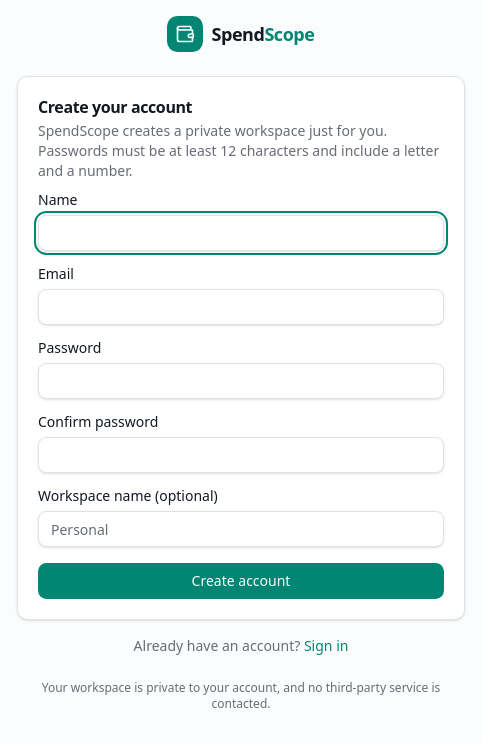
Scenario: SignUpPage › shows field-level validation errors and does not submit
This screenshot has width=483, height=744.
In the field labelled "Name": x=241, y=233 [38, 215, 444, 251], type "New User"
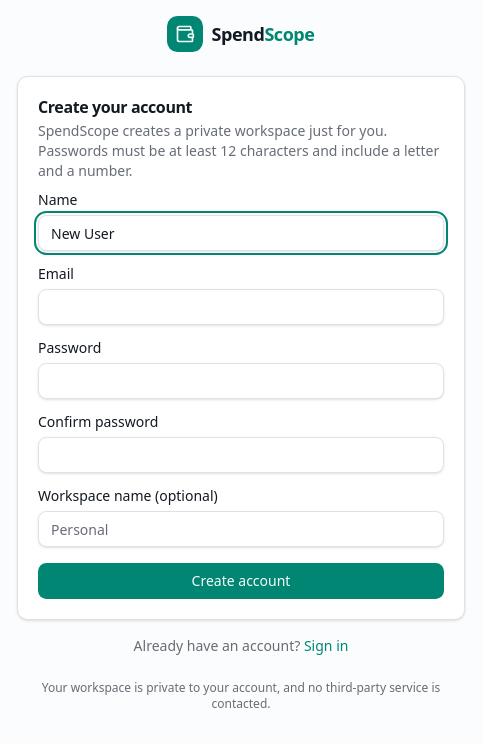
In the field labelled "Email": x=241, y=307 [38, 289, 444, 325], type "new@example.test"
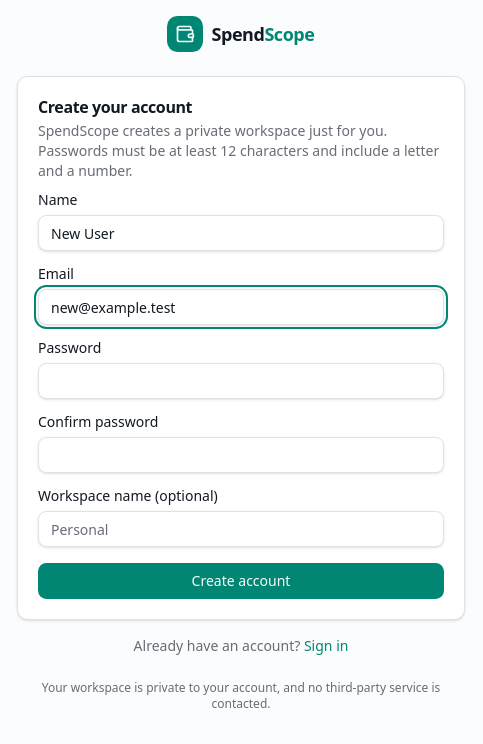
In the password field labelled "Password": x=241, y=381 [38, 363, 444, 399], type "short"
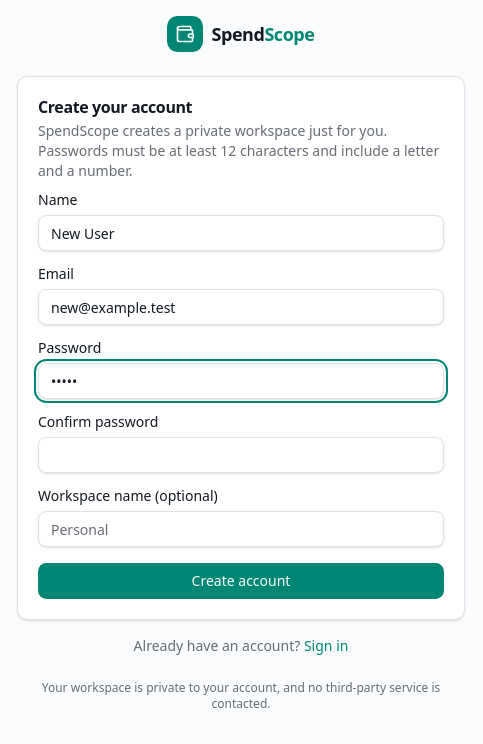
In the password field labelled "Confirm password": x=241, y=455 [38, 437, 444, 473], type "short"
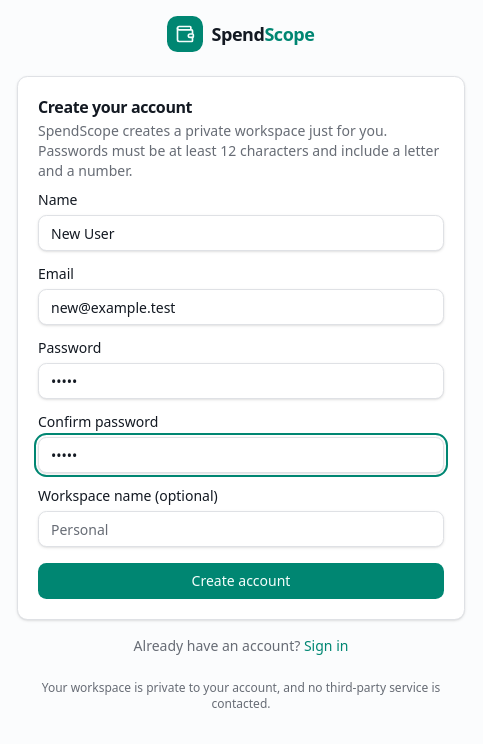
Click the button "Create account": x=241, y=581 [38, 563, 444, 599]
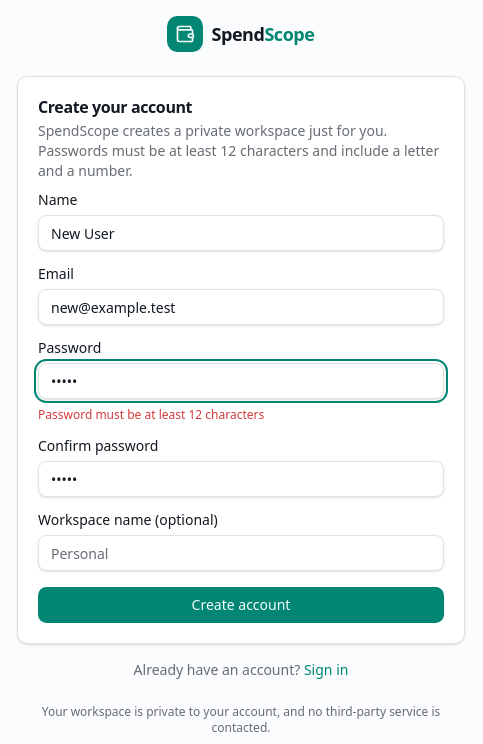
Expected: the text "Password must be at least 12 characters" is shown, [38, 406, 264, 423]
